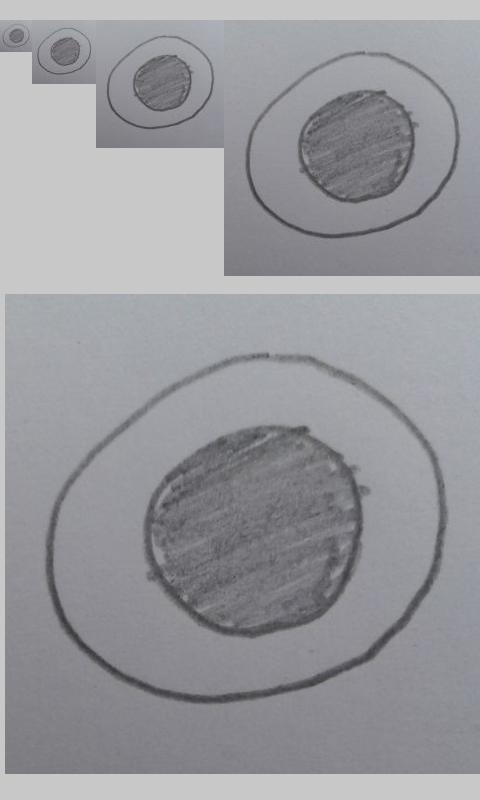radio_button: (42, 346, 452, 708), (243, 48, 461, 240), (105, 34, 216, 131), (36, 27, 92, 76), (2, 23, 30, 48)
